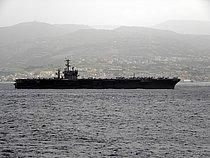MIL_Ship: (10, 56, 184, 90)
